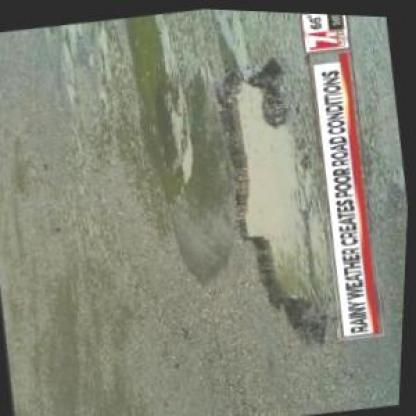pothole: (202, 46, 355, 349)
